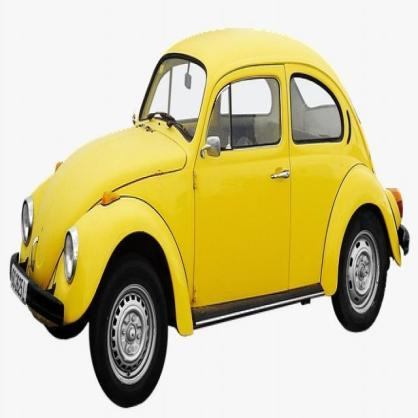car: (12, 29, 410, 409)
